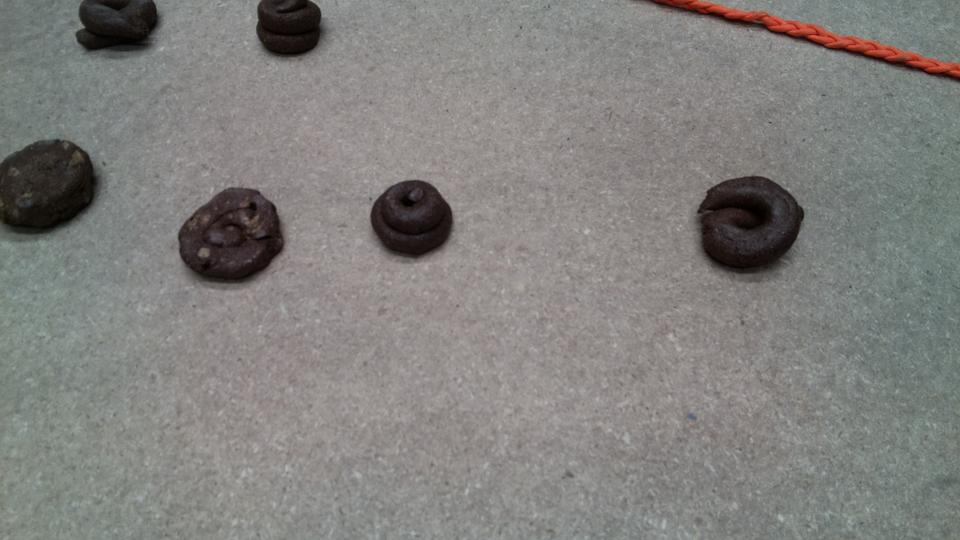poop: (173, 183, 287, 287), (695, 172, 807, 276), (1, 134, 99, 238), (366, 175, 456, 263), (71, 1, 162, 57), (251, 1, 325, 63)
rope: (667, 1, 960, 73)
